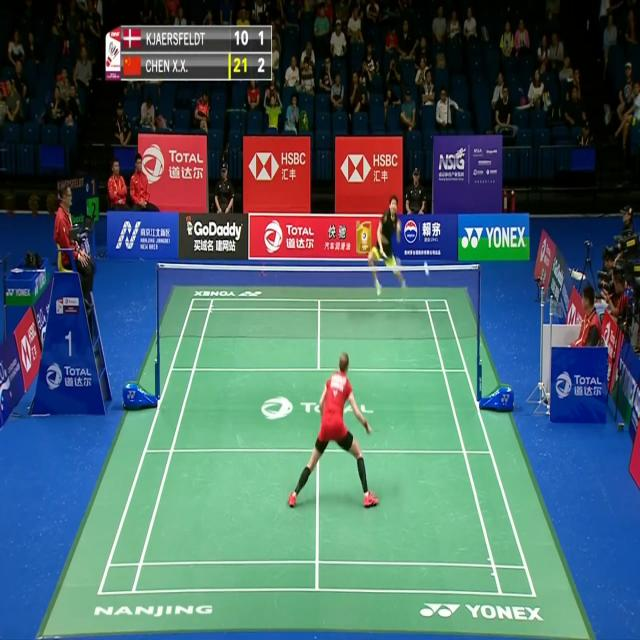Player1: (283, 343, 383, 523)
Player2: (363, 188, 413, 316)
